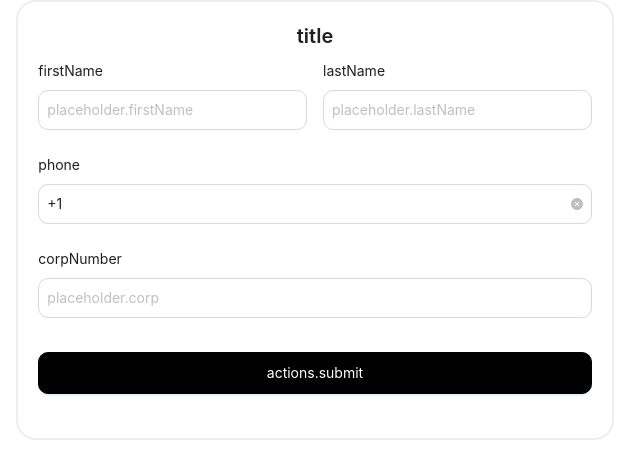
Scenario: OnboardingPage integration › format names to letters only
Type "John123!!" into the field labelled "firstName" at (165, 110), box [47,99,282,121]
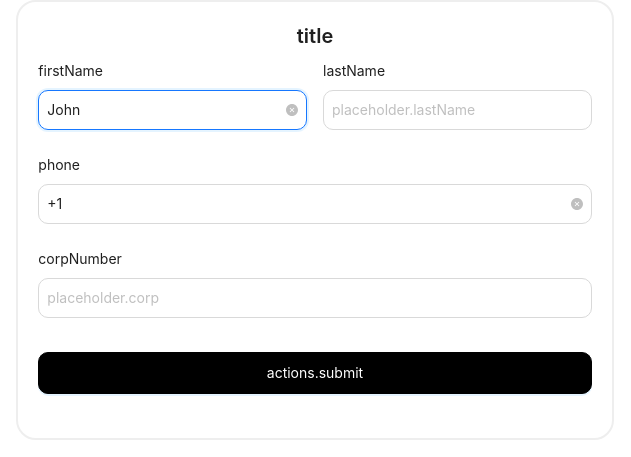
Type "Doe123@@" into the field labelled "lastName" at (449, 110), box [332,99,567,121]
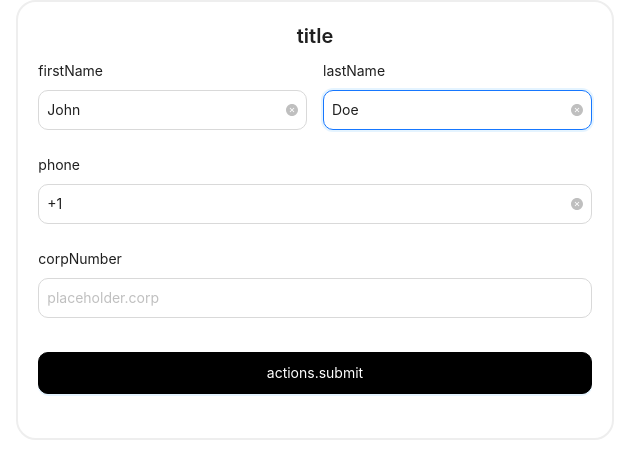
Expected: the field labelled "firstName" holds "John", [47,99,282,121]
Expected: the field labelled "lastName" holds "Doe", [332,99,567,121]
